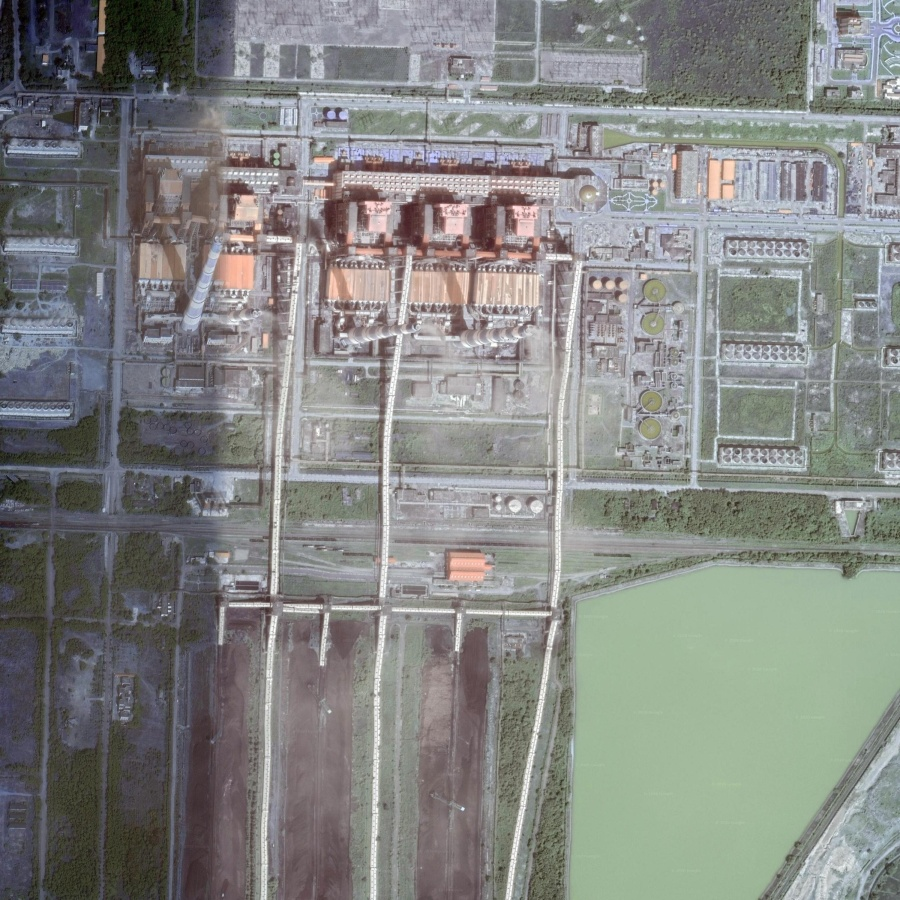PowerPlant: (113, 89, 575, 431)
